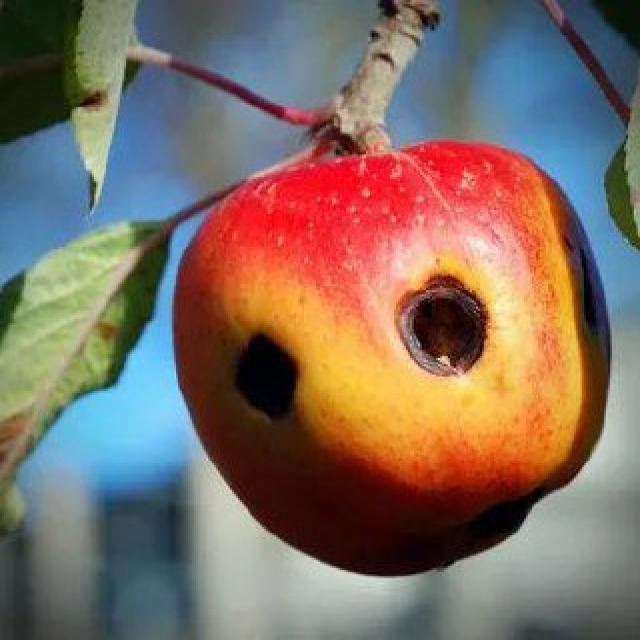Rotten: (160, 153, 608, 575)
